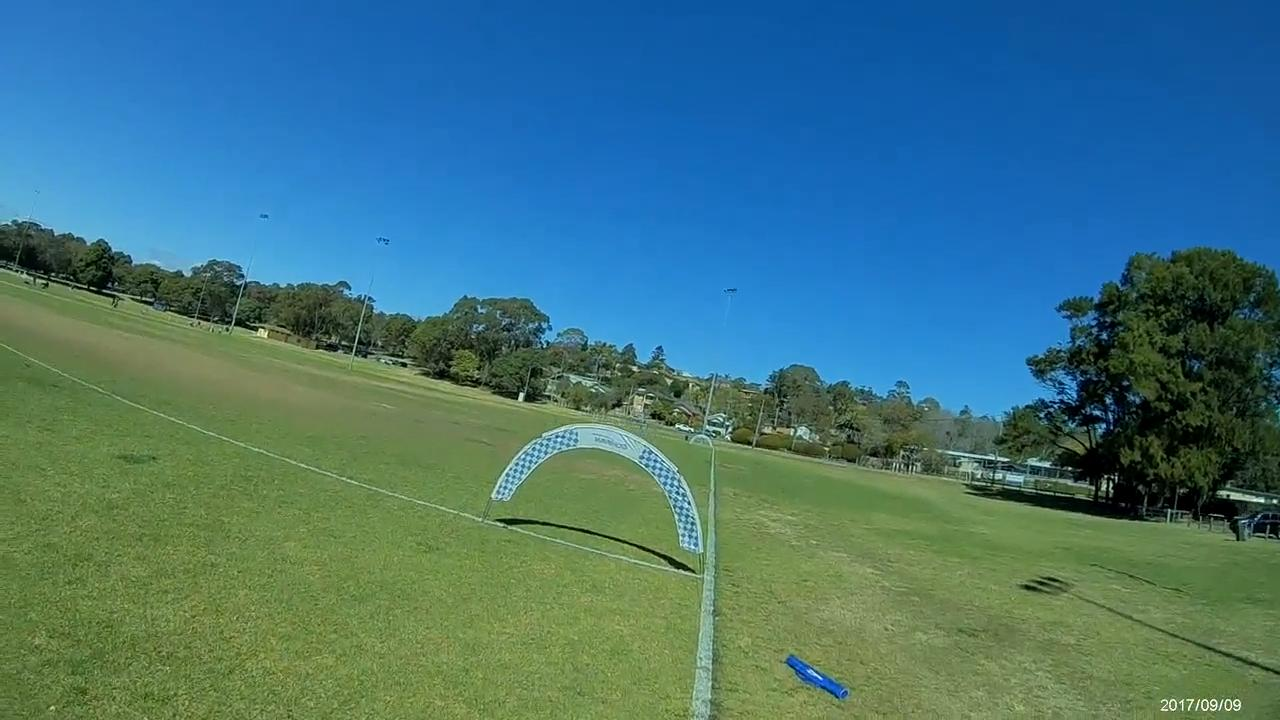gate: (490, 421, 705, 561)
